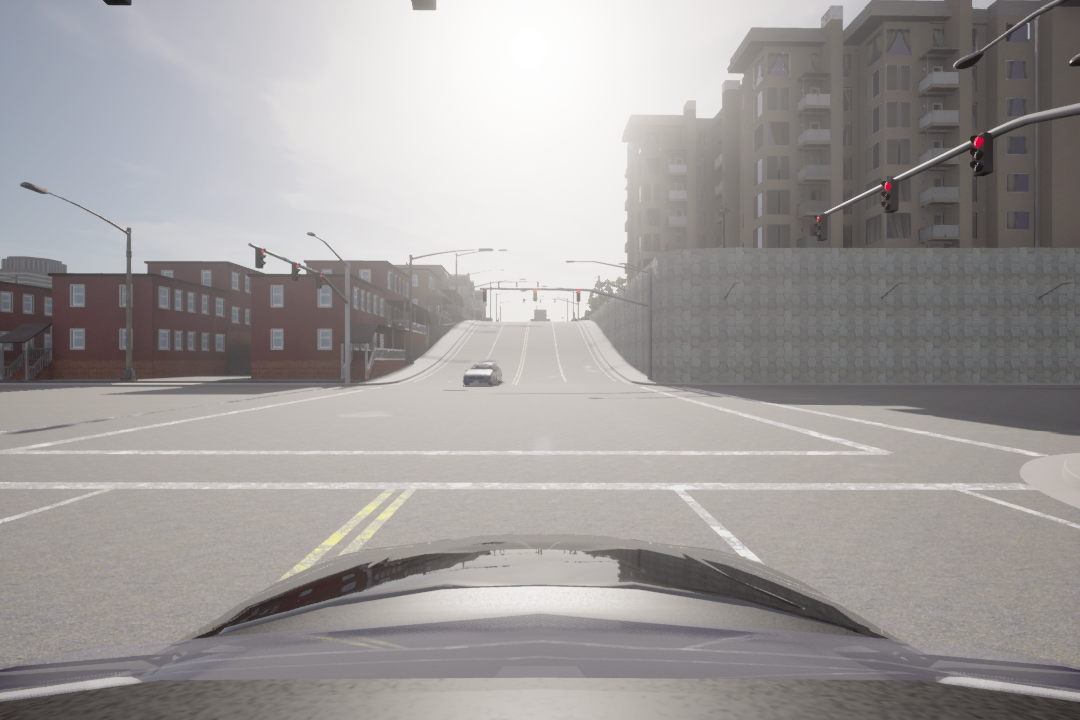TrafficLight: (876, 175, 904, 219), (969, 134, 996, 179), (811, 207, 829, 244), (254, 245, 267, 270), (314, 268, 325, 292), (291, 261, 301, 285)
